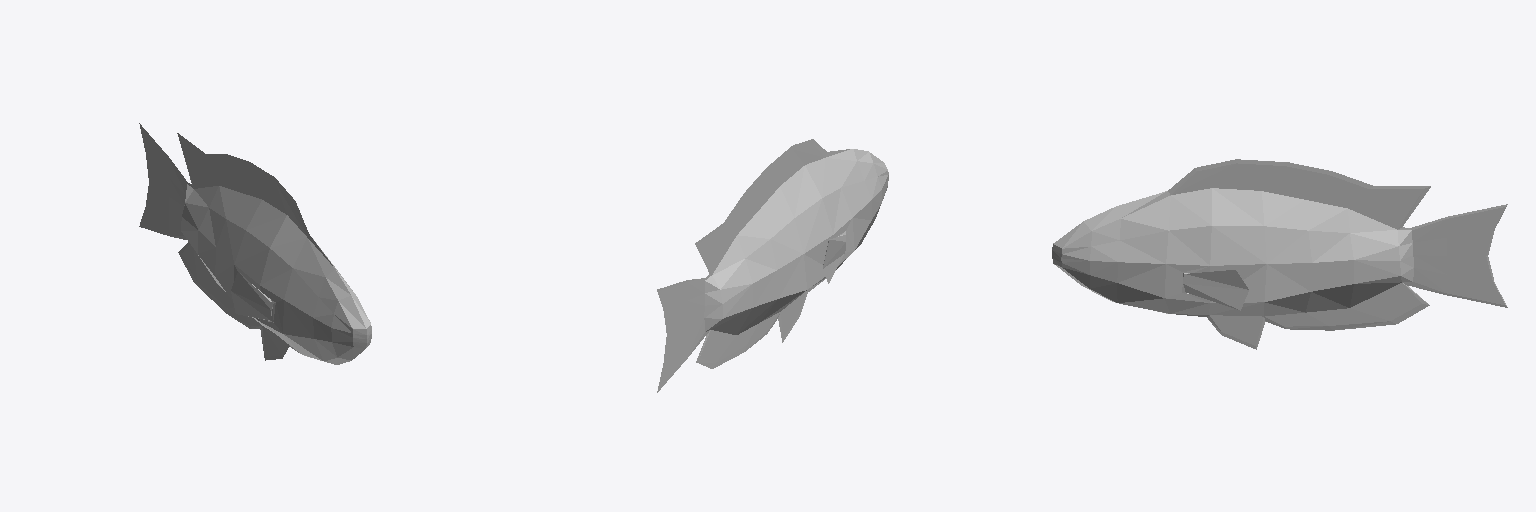
Rendered from fish2.obj.
3 renders of one model, left to right at view 1: azimuth 30°, elevation 25°; view 2: azimuth 150°, elevation 25°; view 3: azimuth 270°, elevation 25°, orthographic.
Visible parts, largest first — view 1: FISH_Plane; view 2: FISH_Plane; view 3: FISH_Plane.
Part boxes in pixels (bbox=[...]): FISH_Plane: bbox=[139, 123, 371, 364]; FISH_Plane: bbox=[657, 139, 888, 392]; FISH_Plane: bbox=[1052, 159, 1507, 349].
Size of the model in its own units: 2.03 by 4.58 by 9.92.